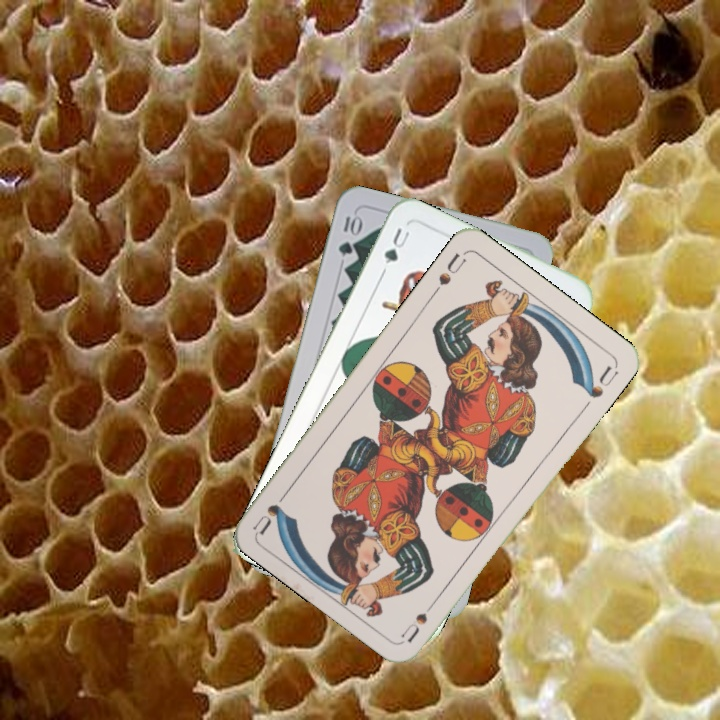G10: (334, 210, 363, 258)
GU: (377, 223, 413, 276)
SU: (397, 592, 442, 645), (427, 249, 470, 299)
